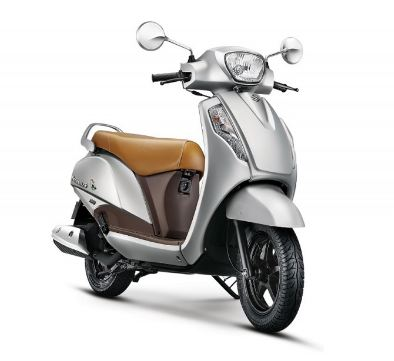bike: (49, 19, 307, 334)
